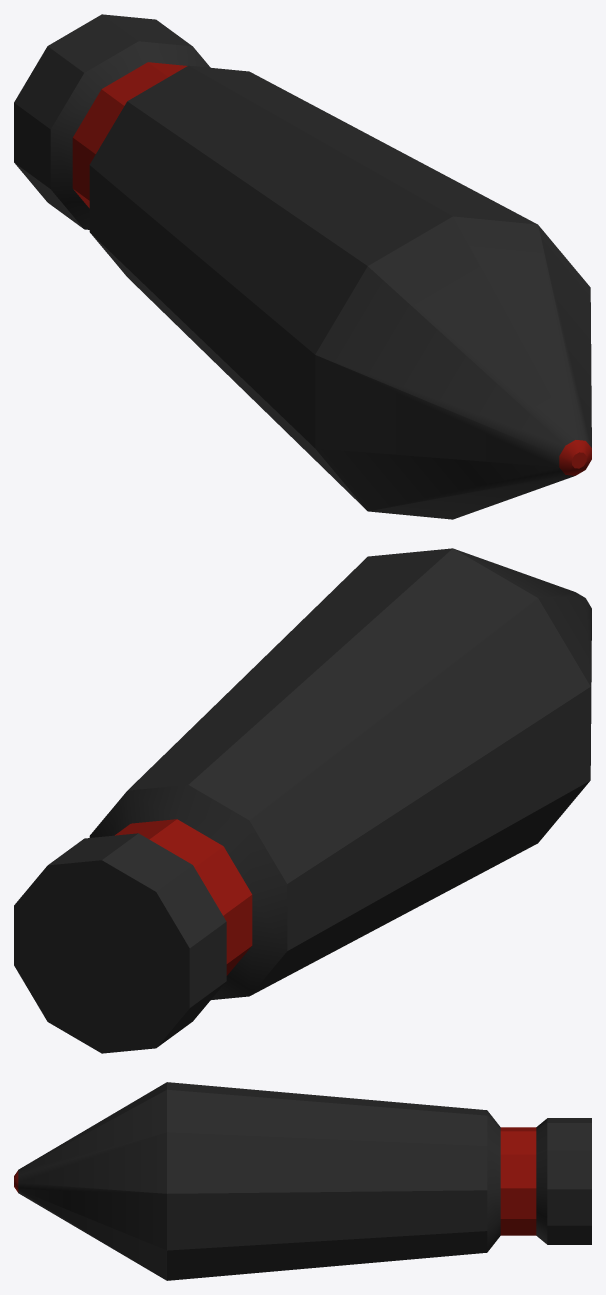
File: Missile.fbx
The picture shows the model from 3 angles, top to bottom: view 1: azimuth 30°, elevation 25°; view 2: azimuth 150°, elevation 25°; view 3: azimuth 270°, elevation 25°; orthographic projection. The views are drawn at different scales.
Parts seen in each view (by area): view 1: Gun_22.008; view 2: Gun_22.008; view 3: Gun_22.008.
Part boxes in pixels (x1,y1,x2,y2): Gun_22.008: [14, 14, 591, 519]; Gun_22.008: [14, 548, 591, 1053]; Gun_22.008: [14, 1082, 591, 1280].
Bounding box in the file's own units: 24.91 × 26.2 × 74.77.
